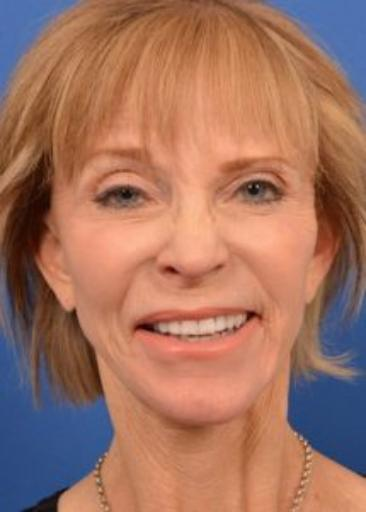left_eye: (232, 179, 281, 205)
left_lip_corner: (251, 305, 264, 323)
right_eye: (93, 184, 157, 211)
right_lip_corner: (125, 320, 151, 335)
